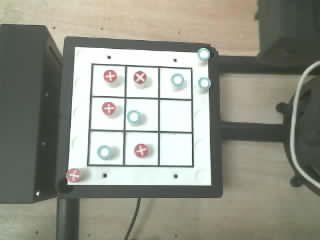blue circle: (97, 145, 111, 159), (127, 110, 140, 123), (171, 73, 184, 86), (198, 77, 210, 88), (198, 48, 209, 59)
board: (66, 47, 212, 185)
cells: (89, 132, 122, 164), (125, 132, 157, 165), (160, 133, 192, 165), (92, 65, 124, 96), (91, 98, 123, 129), (126, 99, 157, 130), (160, 100, 191, 131), (160, 68, 191, 98), (127, 67, 158, 97)
grid: (87, 63, 193, 167)
red cross: (134, 144, 148, 157), (104, 70, 118, 83), (66, 168, 79, 182), (102, 102, 115, 115), (134, 71, 146, 83)
